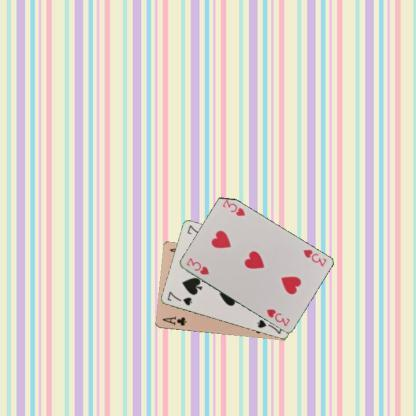3h: (300, 247, 327, 268), (184, 256, 210, 276)
7s: (165, 289, 194, 307)
Ac: (159, 314, 188, 328)
